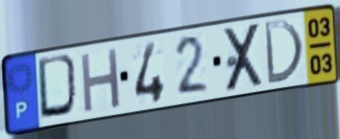2: (174, 33, 210, 102)
4: (132, 39, 167, 106)
D: (36, 52, 83, 122), (261, 18, 306, 87)
H: (78, 46, 123, 117)
X: (222, 20, 267, 95)
